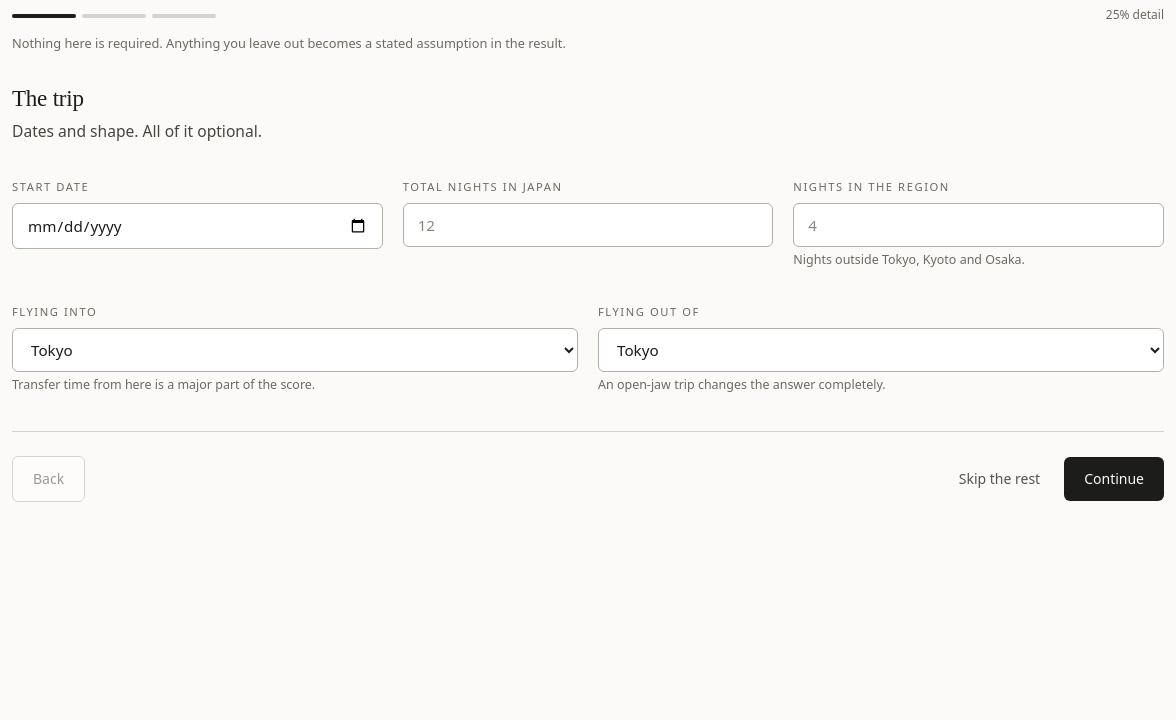
Test: WhereNextForm › shows the API's own message when the request is rejected, and stays on the form
The width and height of the screenshot is (1176, 720).
Click the button "Skip the rest" at (999, 479), box [947, 461, 1052, 497]
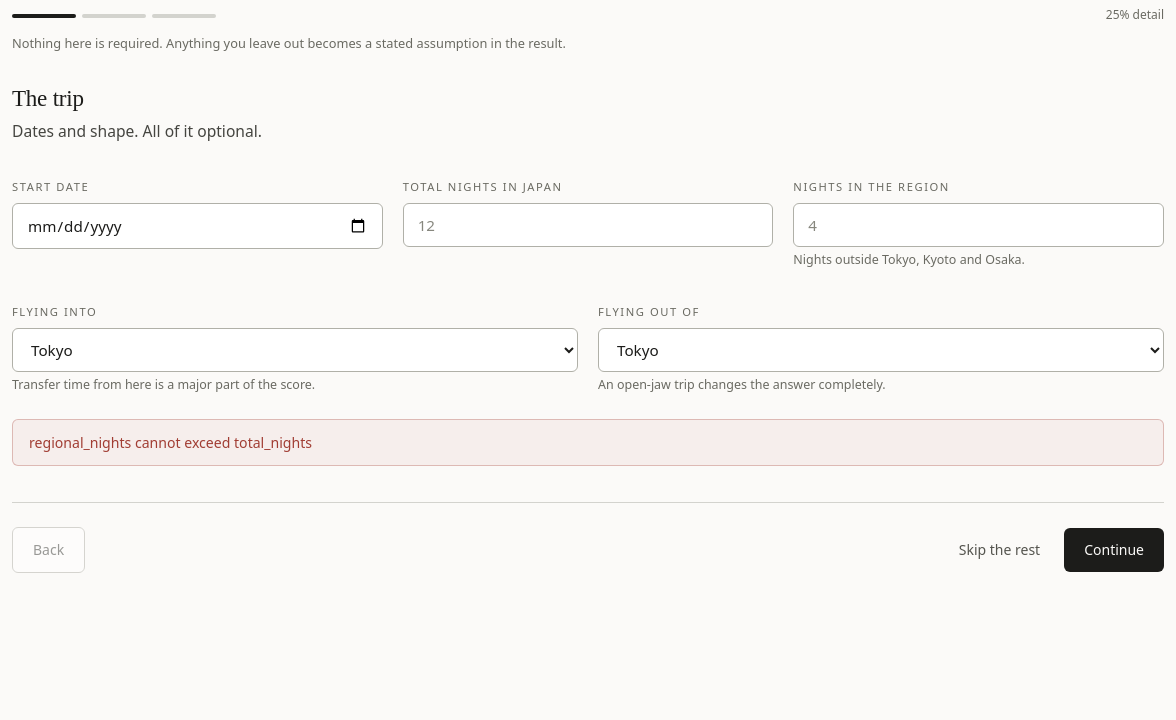
Expected: the button "Skip the rest" is enabled, [947, 532, 1052, 568]
Expected: the message reads "regional_nights cannot exceed total_nights", [29, 433, 312, 452]
